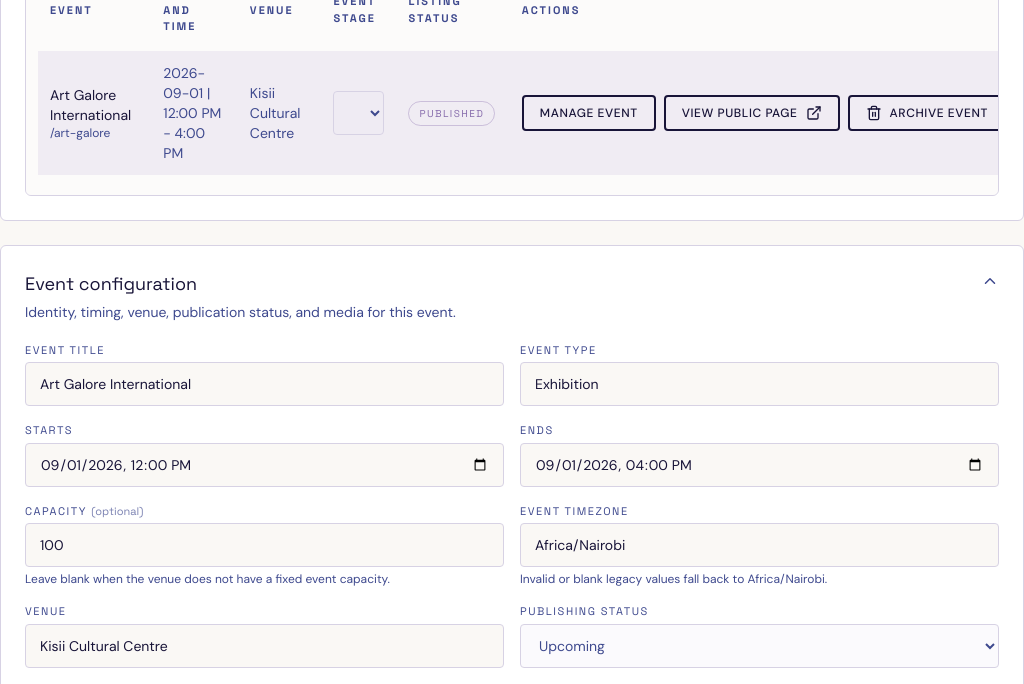
Test case: AdminEventsPage ticket visibility › clears event dirty state after a successful save
(page scrolled)
Replace the text in the field with placeholder "Event title" with "Edited event title" at point(264, 384), box [25, 362, 504, 406]
(page scrolled)
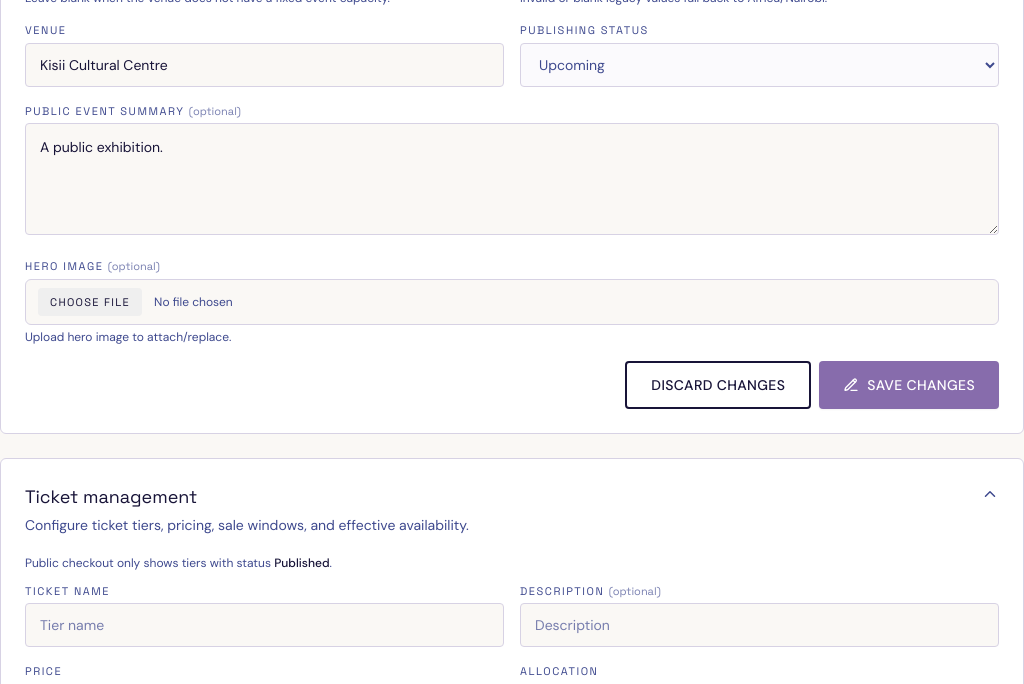
Click the button "Save changes" at point(909, 384), box [819, 360, 999, 408]
(page scrolled)
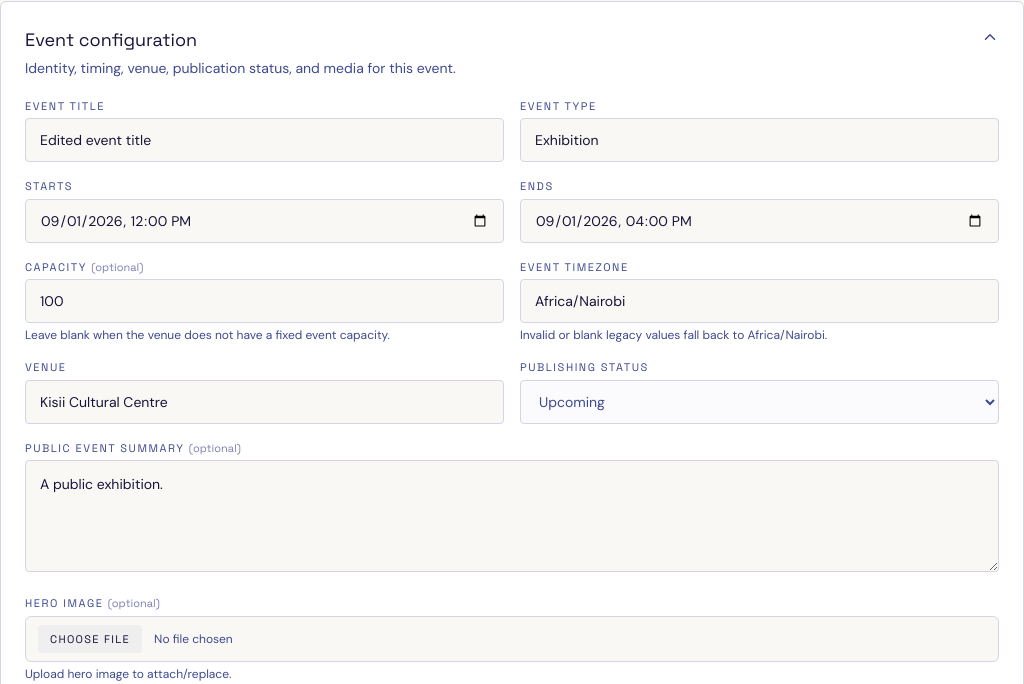
Expected: the button "Discard changes" is gone
